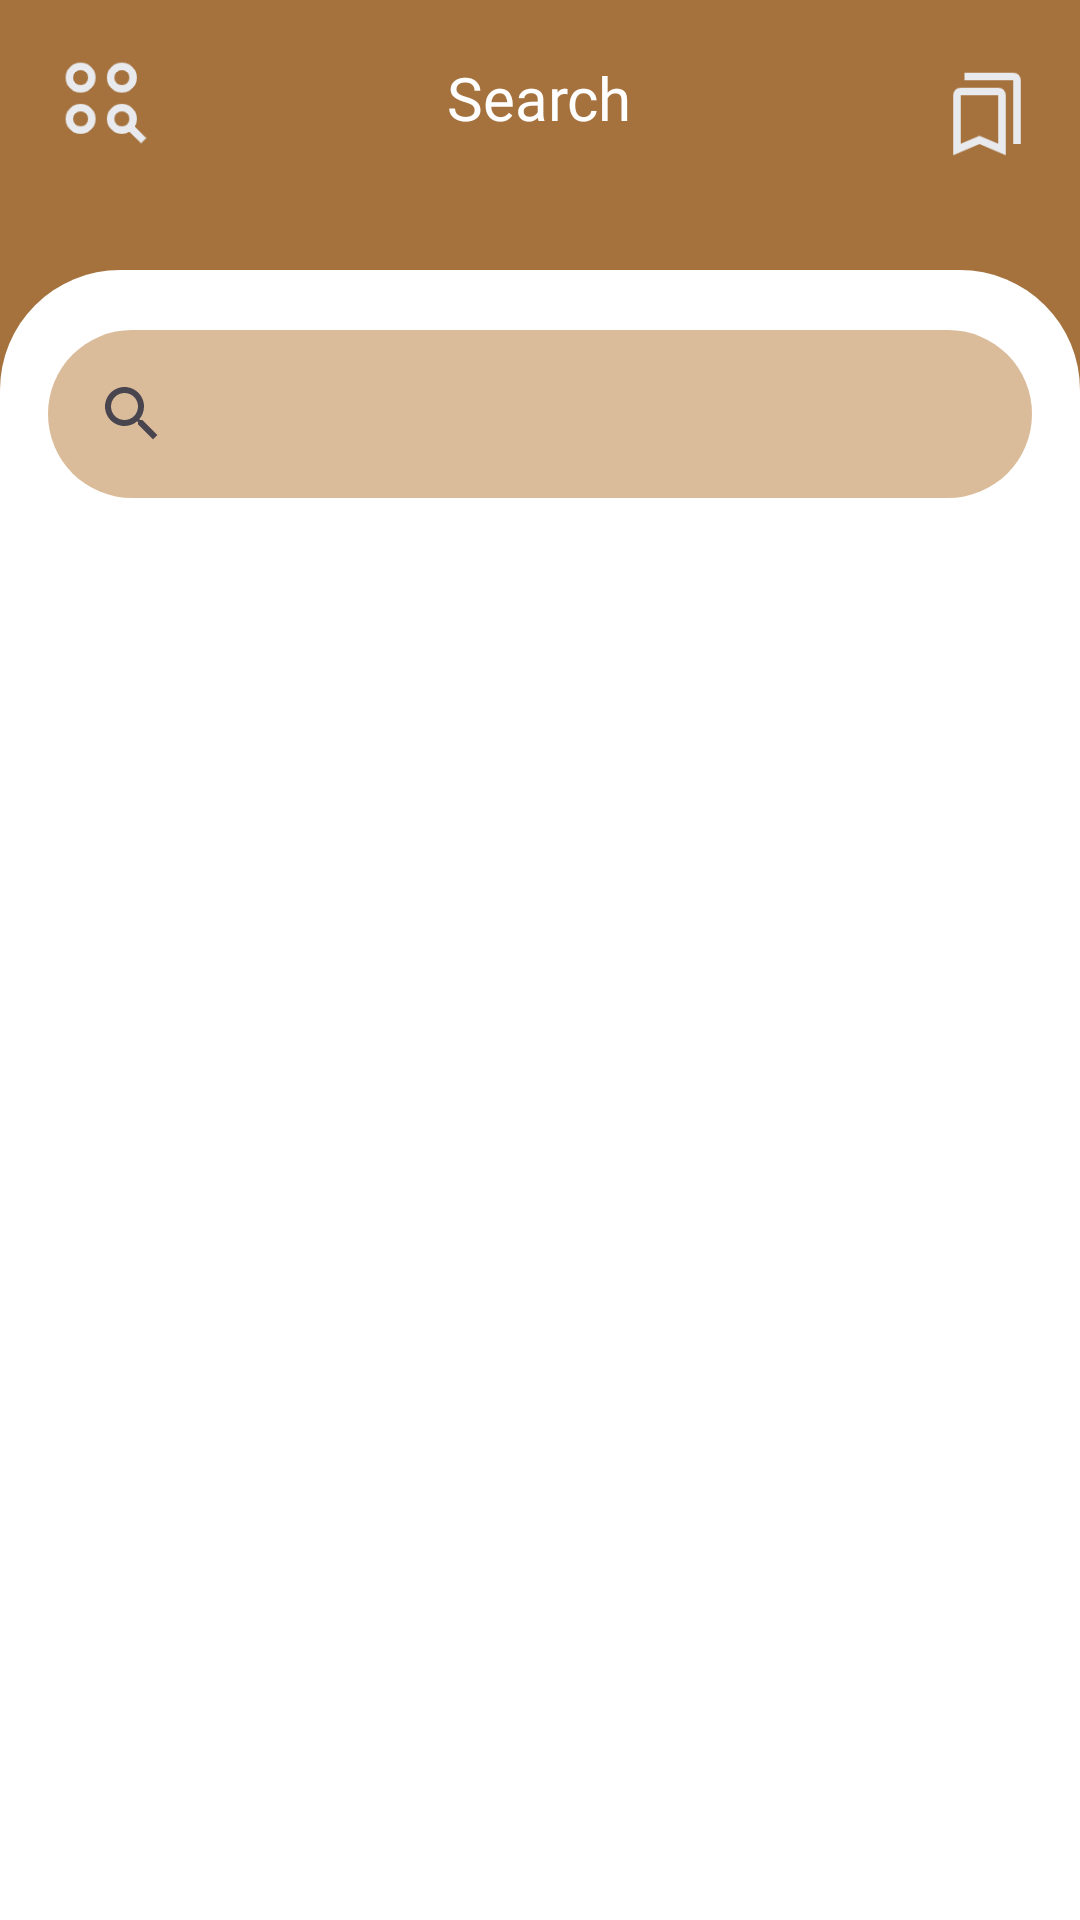

Named icons in this screenshot (1080×1920) and their bounding boxes, (x1, y1, x2, y2):
bookmarks: (953, 72, 1021, 155)
